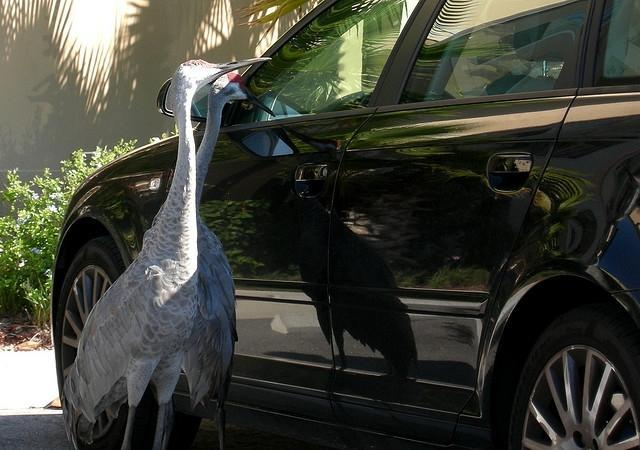car: (52, 0, 640, 446)
